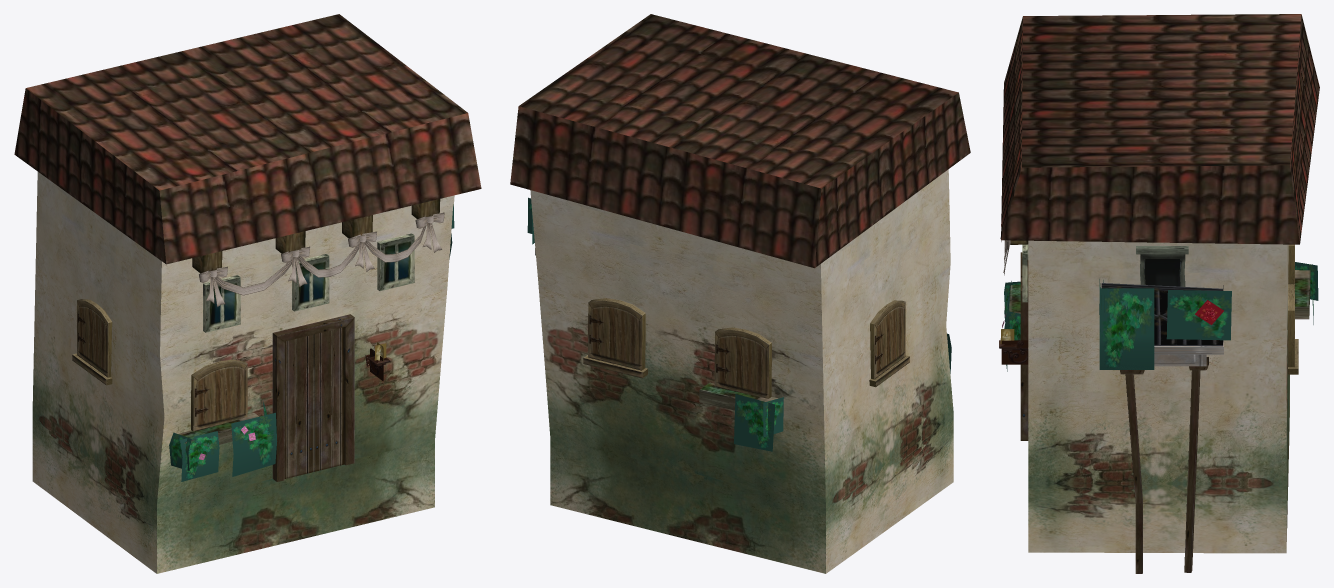
Rendered from spanish_npc_house_n_exterior.fbx.
3 views of the same model, side by side, from view 1: azimuth 30°, elevation 25°; view 2: azimuth 150°, elevation 25°; view 3: azimuth 270°, elevation 25° (orthographic). The views are drawn at different scales.
Parts seen in each view (by area): view 1: wall, Roof, door_left, door_frame, window2, vine, window, pPlane13, pPlane17, pPlane15, vine2, decoRibbon_01 (+1 smaller); view 2: wall, Roof, window3, window5, window, vine2back1, window_seal; view 3: Roof, wall, pPlane3.001, pPlane2.001, bal_column, door_up, Column5, railing, door_frame, bal_top, window_seal, pPlane3 (+4 smaller).
Part boxes in pixels (bbox=[...]): wall: bbox=[32, 172, 454, 573]; Roof: bbox=[14, 14, 481, 264]; door_left: bbox=[284, 327, 344, 478]; door_frame: bbox=[272, 314, 354, 481]; window2: bbox=[191, 359, 247, 431]; vine: bbox=[231, 412, 277, 476]; window: bbox=[77, 299, 112, 377]; pPlane13: bbox=[377, 233, 414, 291]; pPlane17: bbox=[203, 275, 240, 332]; pPlane15: bbox=[292, 254, 329, 311]; vine2: bbox=[180, 431, 219, 481]; decoRibbon_01: bbox=[215, 258, 292, 295]; wall: bbox=[530, 169, 953, 573]; Roof: bbox=[510, 14, 970, 268]; window3: bbox=[588, 298, 645, 370]; window5: bbox=[714, 327, 771, 398]; window: bbox=[870, 300, 905, 379]; vine2back1: bbox=[734, 394, 775, 451]; window_seal: bbox=[699, 382, 778, 410]; Roof: bbox=[1001, 14, 1319, 244]; wall: bbox=[1028, 240, 1289, 553]; pPlane3.001: bbox=[1099, 288, 1154, 369]; pPlane2.001: bbox=[1166, 290, 1231, 340]; bal_column: bbox=[1184, 357, 1208, 572]; door_up: bbox=[1136, 246, 1188, 286]; Column5: bbox=[1120, 370, 1144, 573]; railing: bbox=[1101, 283, 1223, 346]; door_frame: bbox=[1020, 252, 1028, 440]; bal_top: bbox=[1154, 340, 1223, 366]; window_seal: bbox=[1295, 270, 1310, 319]; pPlane3: bbox=[1099, 290, 1151, 369].
Bounding box in the file's own units: 2606 × 2912 × 2101.
Materials: 3 (3 with a texture image).
